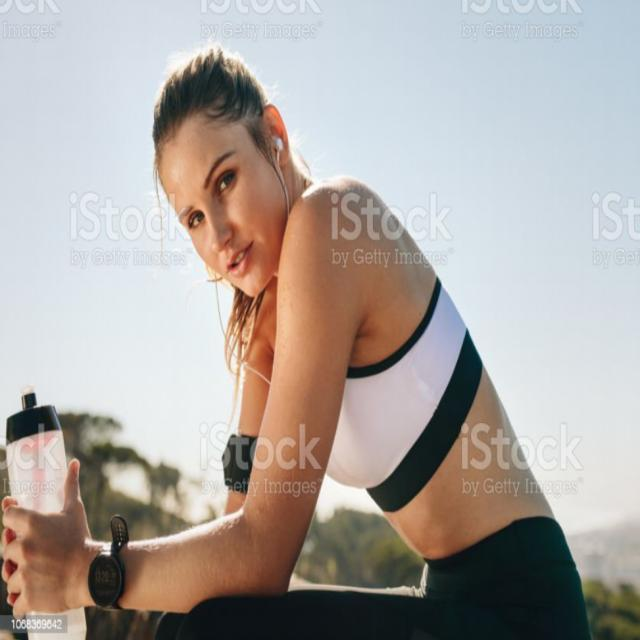Watch: (85, 516, 134, 618)
